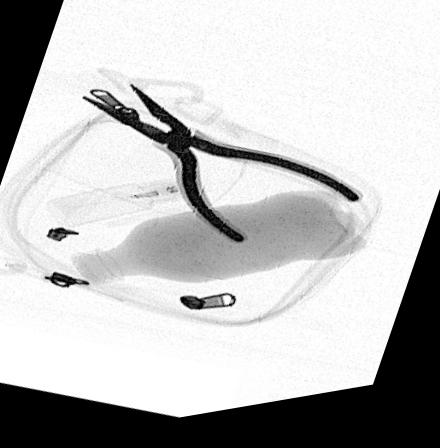Pliers: (74, 86, 367, 256)
